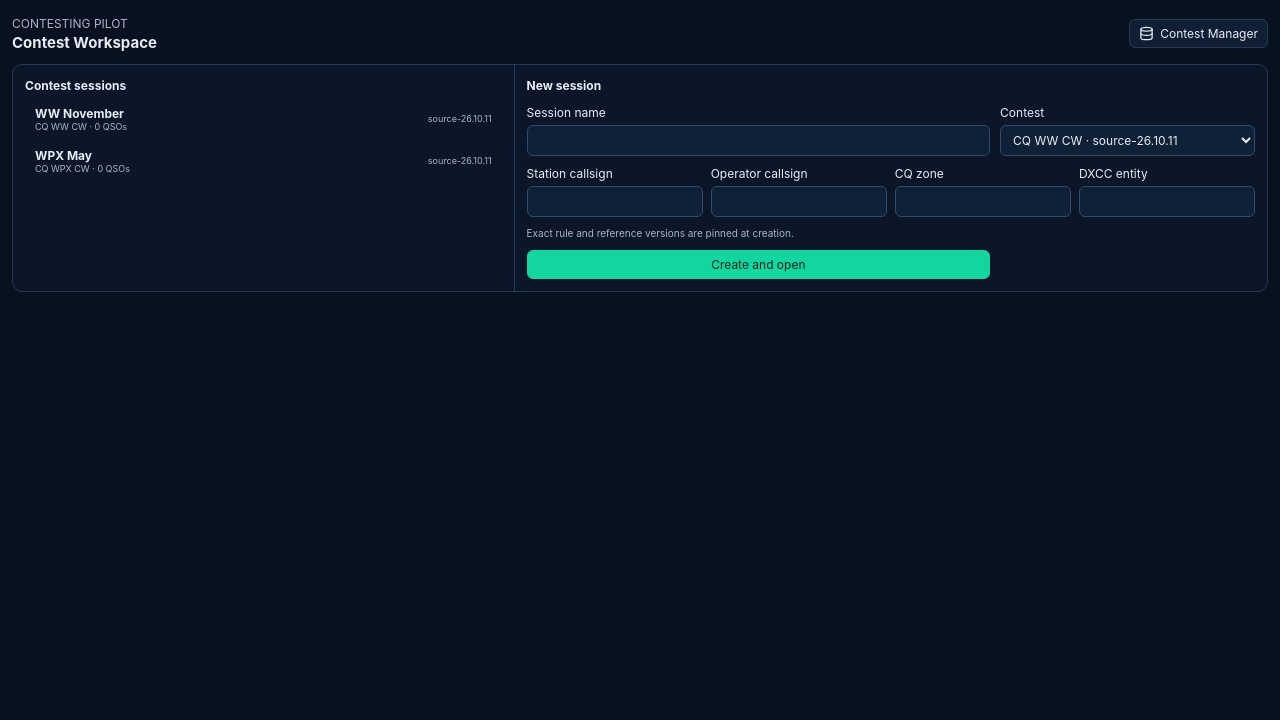
renders repeated authoritative validation messages without duplicate React keys
Click the button "WW November CQ WW CW · 0 QSOs source-26.10.11" at {"x": 79, "y": 113}, box [25,100,502,137]
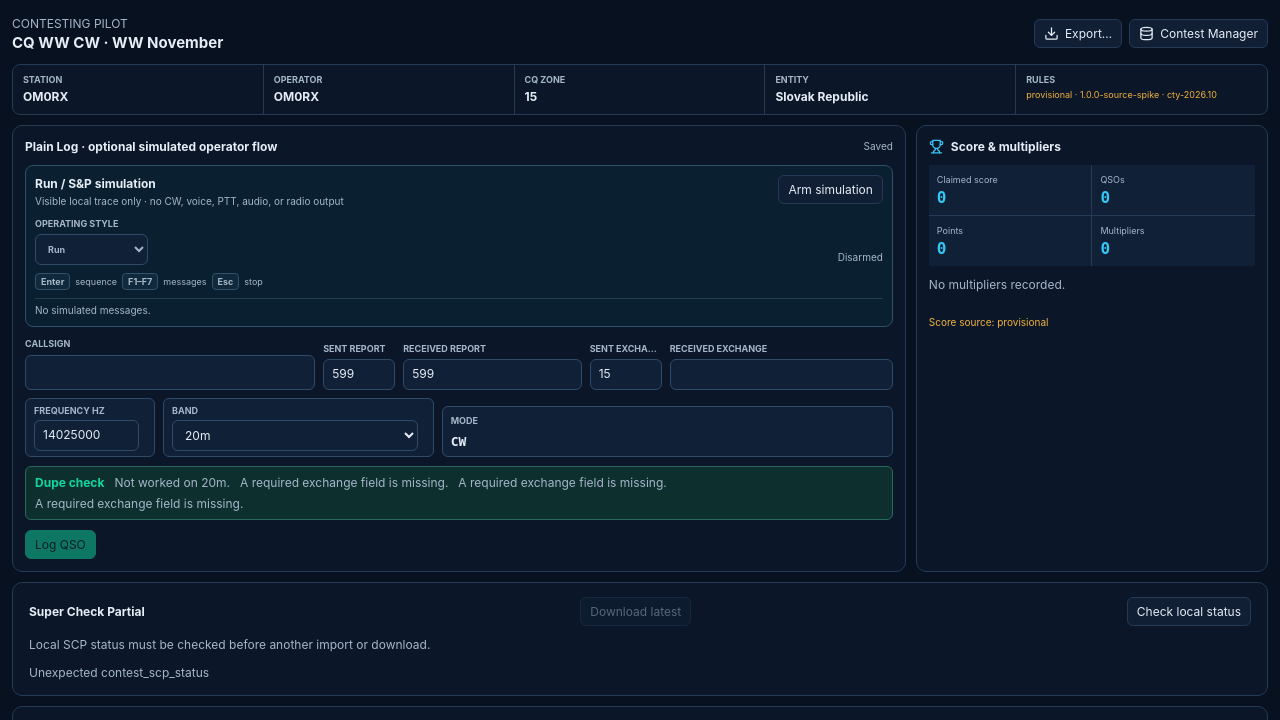
Expected: the text "A required exchange field is missing." is shown 3 times, [240,474,448,491]; [458,474,667,491]; [35,495,243,512]
